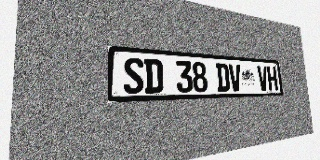3: (176, 60, 193, 93)
8: (192, 61, 208, 92)
D: (144, 58, 163, 93), (216, 63, 230, 92)
H: (267, 66, 278, 90)
S: (123, 57, 144, 94)
V: (228, 64, 242, 91), (257, 66, 269, 91)
